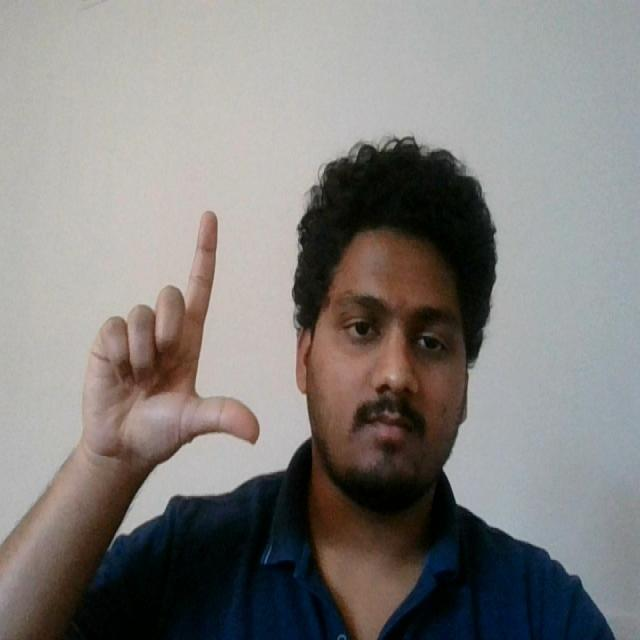IloveYou: (74, 201, 266, 477)
